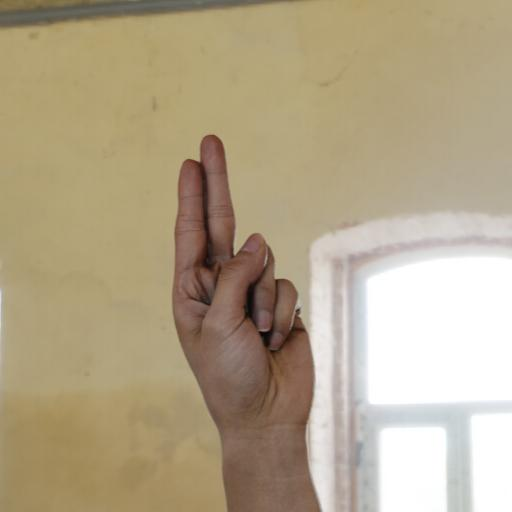U: (157, 128, 334, 501)
